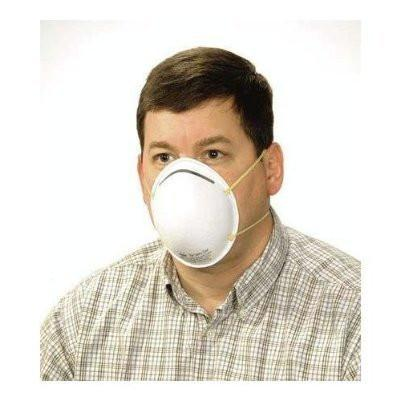n95: (140, 161, 239, 266)
